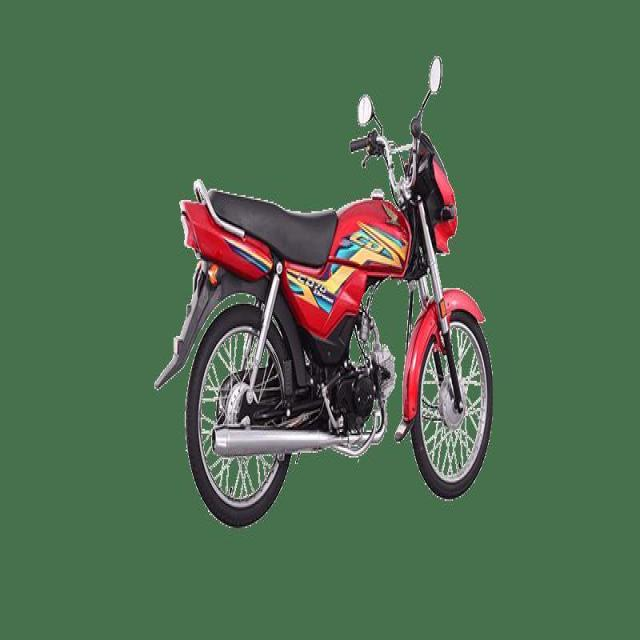motorcycle: (98, 19, 542, 534)
